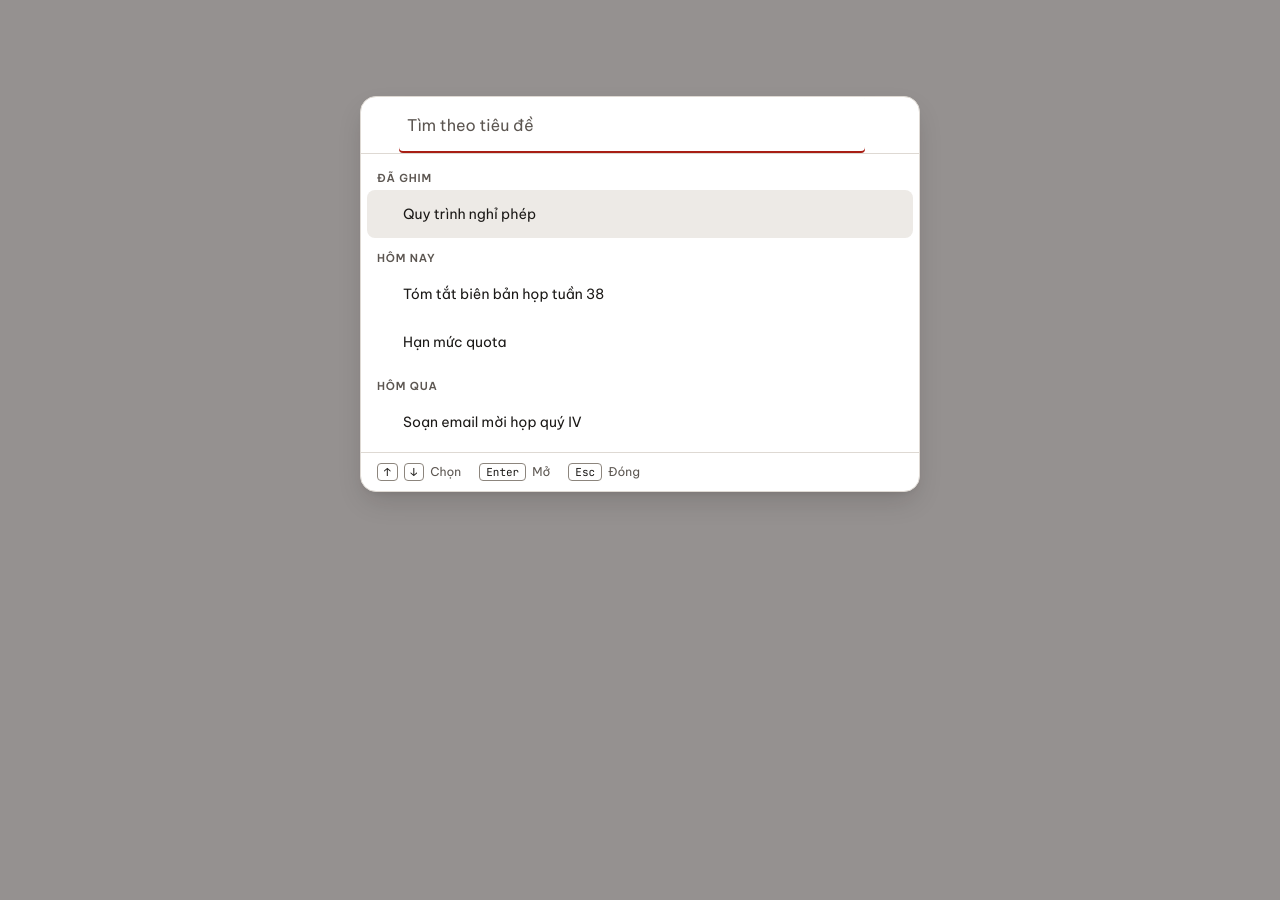
Test: hop tim hoi thoai › 13. khong khop ⇒ 'Khong tim thay'; dang nap (`null`) ⇒ chua bao rong
This screenshot has width=1280, height=900.
Type "hợp đồng thuê văn phòng" into the dropdown named "Tìm hội thoại" at {"x": 632, "y": 125}, box x1=399 y1=97 x2=865 y2=153
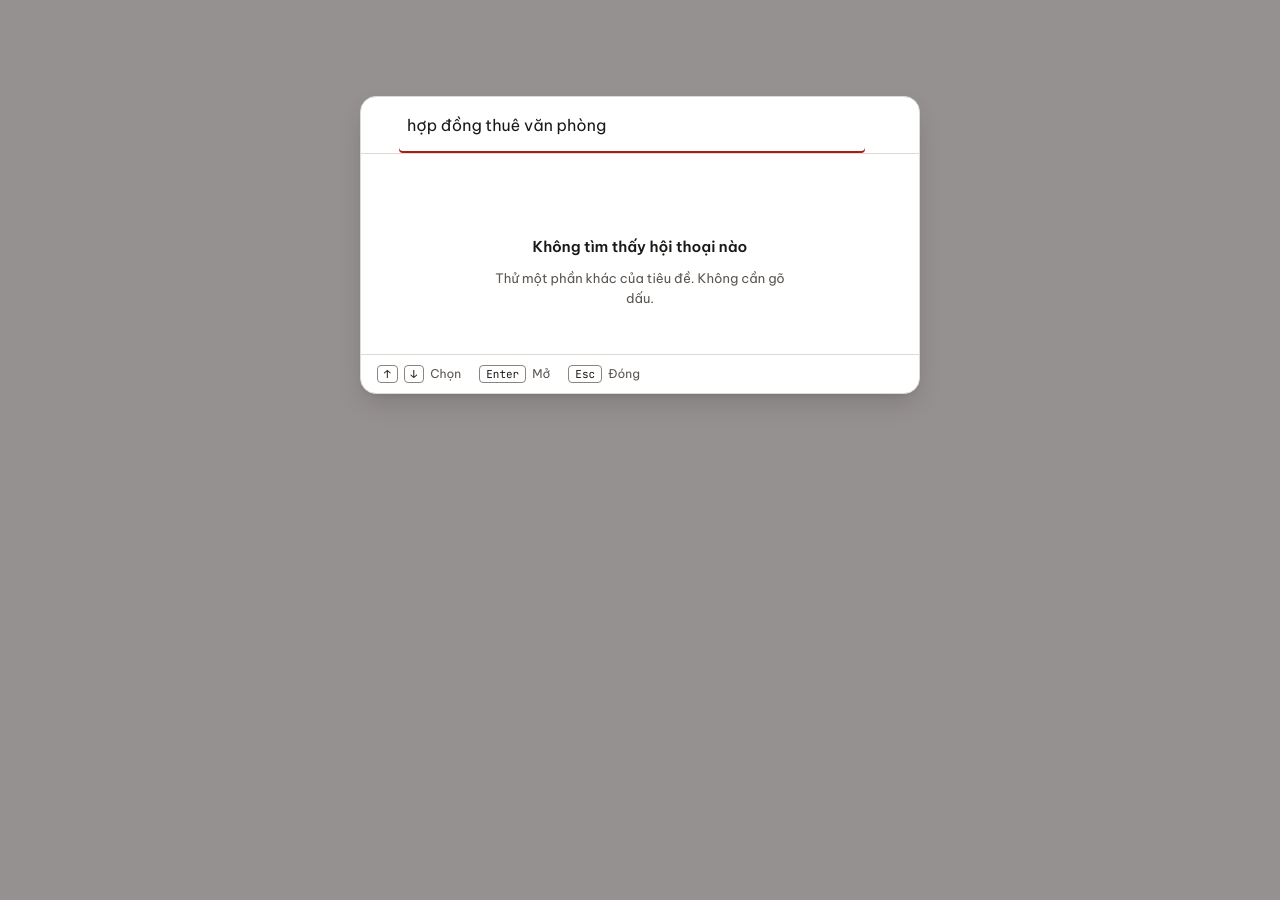
Check: the text "Không tìm thấy hội thoại nào" is shown, box x1=533 y1=234 x2=747 y2=260
Check: no options are shown
